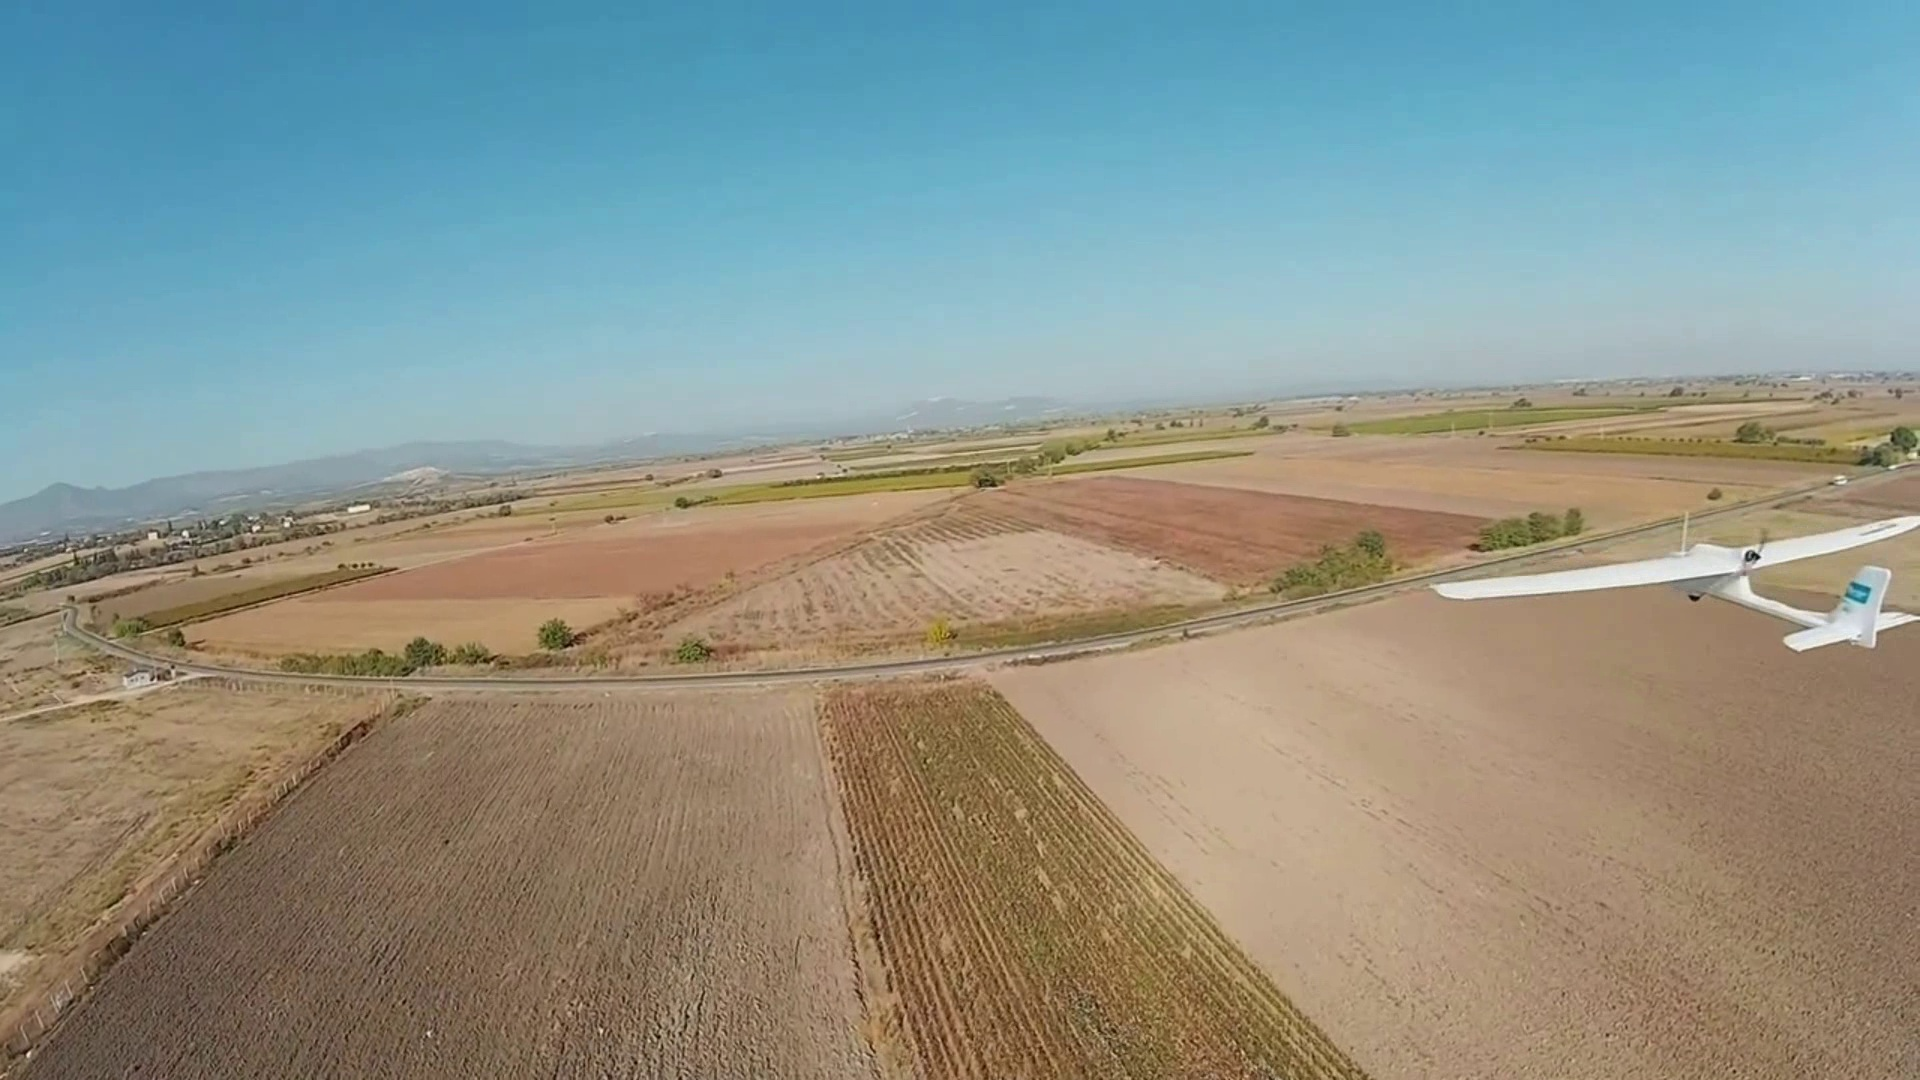airplane: (1431, 506, 1916, 649), (1682, 510, 1914, 654)
